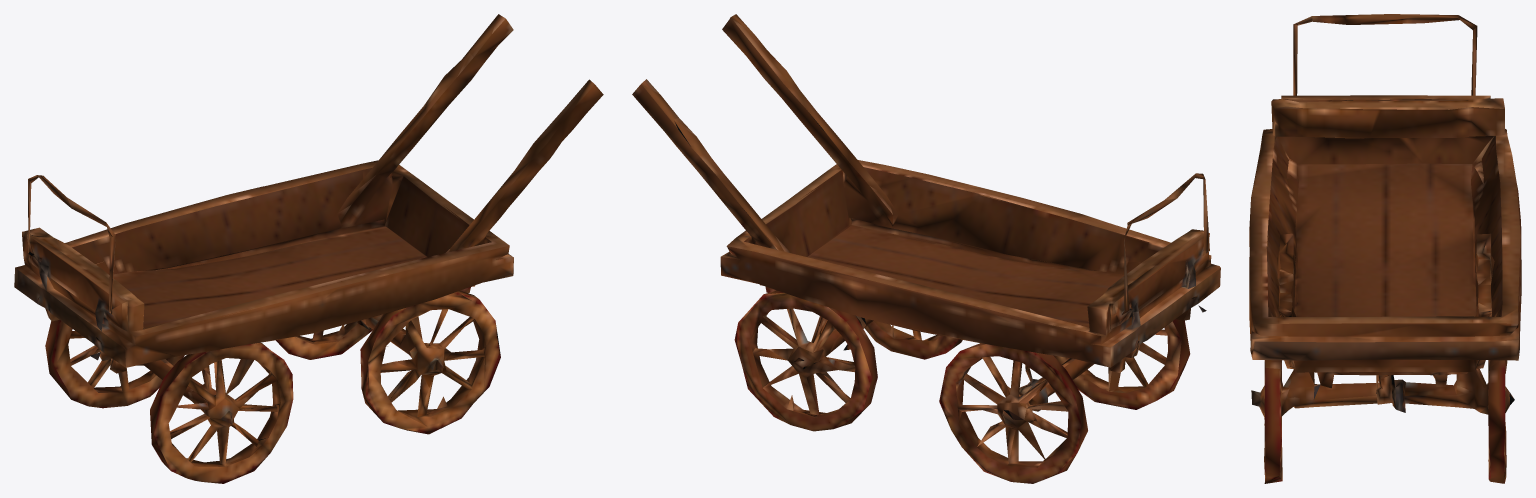
The model's file is cart.glb.
The picture shows the model from 3 angles, left to right: view 1: azimuth 30°, elevation 25°; view 2: azimuth 150°, elevation 25°; view 3: azimuth 270°, elevation 25°; orthographic projection. The views are drawn at different scales.
Parts seen in each view (by area): view 1: Mesh_0.001; view 2: Mesh_0.001; view 3: Mesh_0.001.
Part boxes in pixels (box(x1,y1,x2,y2)): Mesh_0.001: box(14, 14, 603, 483); Mesh_0.001: box(632, 14, 1220, 483); Mesh_0.001: box(1249, 14, 1521, 483).
Bounding box in the file's own units: 1.91 × 1.12 × 0.8249.
Materials: 1 (1 with a texture image).
